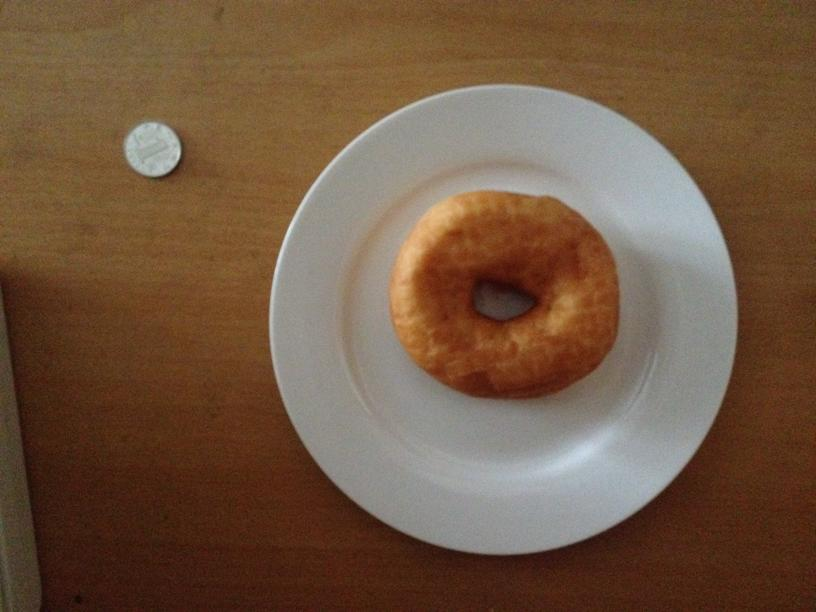coin: (124, 120, 182, 177)
doughnut: (394, 195, 620, 398)
